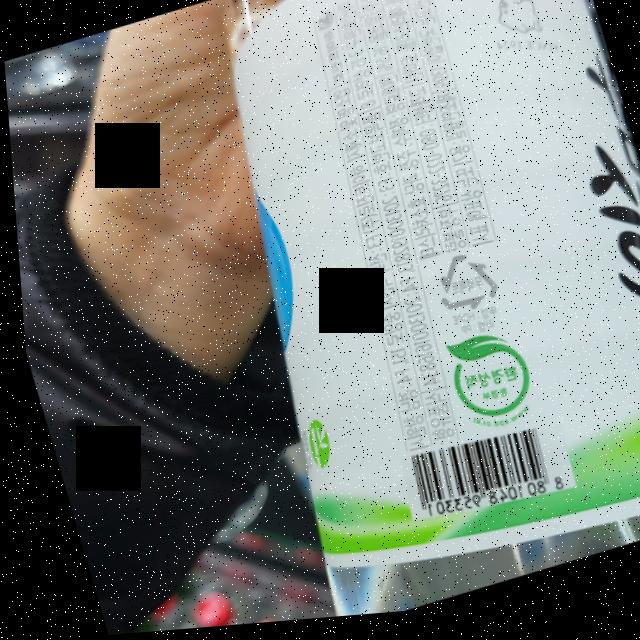ColorlessPET: (420, 248, 499, 330)
